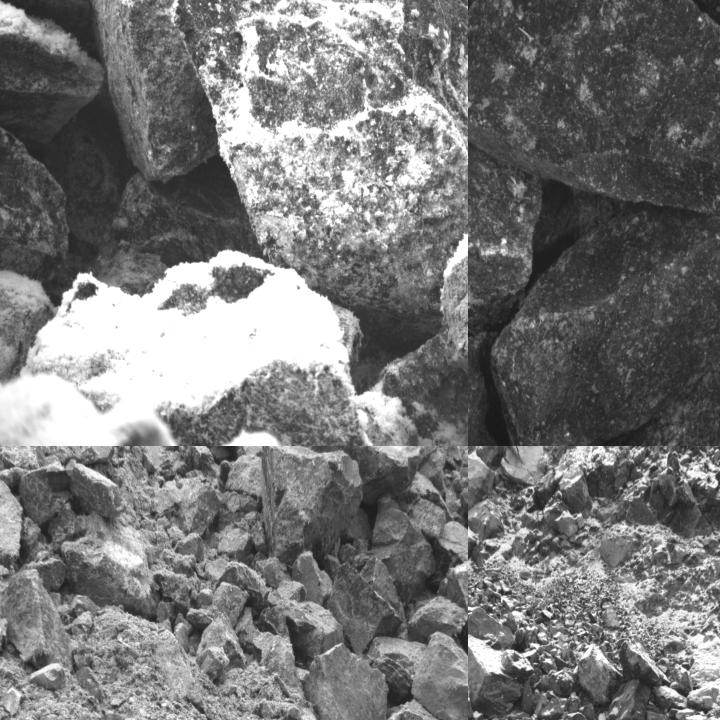stone: (180, 0, 467, 314), (468, 0, 719, 217), (492, 210, 719, 445), (131, 288, 372, 445), (59, 0, 246, 187), (468, 89, 542, 334), (0, 0, 105, 158), (354, 327, 467, 445), (261, 446, 363, 566), (0, 102, 62, 287), (581, 364, 719, 445), (60, 510, 158, 617), (299, 446, 438, 504), (0, 568, 74, 672), (325, 562, 404, 658), (0, 567, 73, 670), (372, 492, 436, 607), (303, 643, 389, 719), (410, 632, 467, 719), (255, 607, 304, 705), (468, 634, 521, 719), (360, 556, 408, 639), (70, 461, 131, 519), (369, 638, 426, 700), (18, 462, 70, 526), (20, 464, 73, 526), (176, 477, 224, 538), (576, 644, 622, 705), (426, 520, 467, 586), (619, 636, 670, 686), (218, 560, 271, 608), (408, 596, 467, 638), (291, 551, 334, 608), (197, 614, 245, 664), (446, 560, 467, 668), (0, 480, 24, 566), (468, 606, 516, 648), (401, 498, 445, 538), (609, 679, 652, 719), (25, 548, 65, 588), (213, 582, 248, 627), (226, 454, 262, 497), (372, 698, 441, 719), (28, 663, 76, 691), (196, 647, 233, 679), (500, 649, 534, 683), (689, 678, 719, 713), (340, 508, 371, 540), (176, 533, 205, 562), (79, 446, 115, 464), (324, 554, 341, 582), (339, 543, 355, 566), (468, 682, 475, 719)
